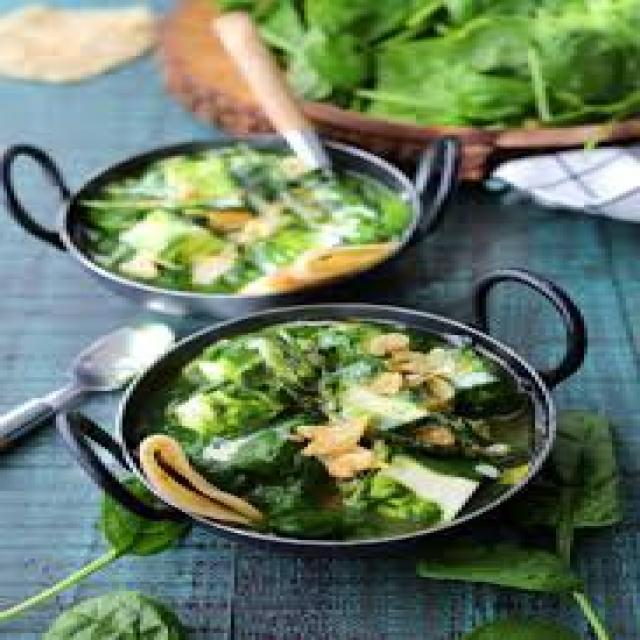Palak Paneer: (118, 311, 548, 547)
